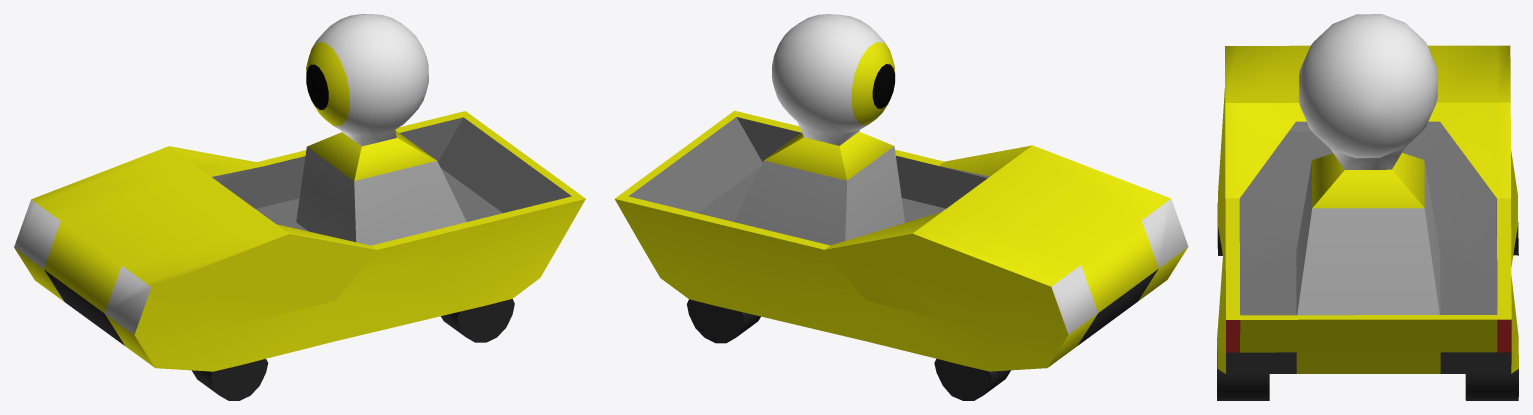
File: WarExplorerYellow.fbx
3 views of the same model, side by side, from view 1: azimuth 30°, elevation 25°; view 2: azimuth 150°, elevation 25°; view 3: azimuth 270°, elevation 25° (orthographic). The views are drawn at different scales.
Parts seen in each view (by area): view 1: pSphere2; view 2: pSphere2; view 3: pSphere2.
Boxes of the visible parts, box(x1,y1,x2,y2) form: pSphere2: box(14, 14, 585, 400); pSphere2: box(614, 14, 1188, 400); pSphere2: box(1217, 14, 1518, 400).
Bounding box in the file's own units: 4.31 × 2.64 × 2.09.
